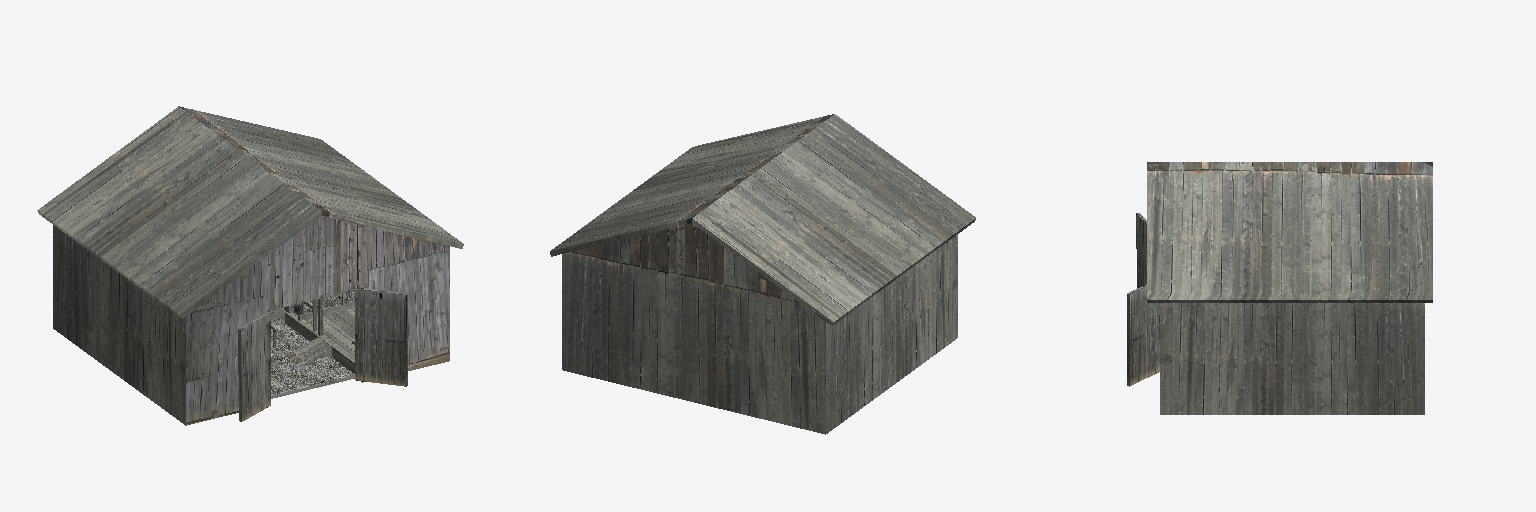
3 views of the same model, side by side, from view 1: azimuth 30°, elevation 25°; view 2: azimuth 150°, elevation 25°; view 3: azimuth 270°, elevation 25° (orthographic).
Parts seen in each view (by area): view 1: barn, inner_barn, door2, door1; view 2: barn; view 3: barn, door2, door1.
Part boxes in pixels (left/top/right/bottom): barn: left=37, top=106, right=463, bottom=425; inner_barn: left=268, top=290, right=354, bottom=398; door2: left=355, top=288, right=407, bottom=386; door1: left=238, top=312, right=270, bottom=421; barn: left=550, top=114, right=975, bottom=434; barn: left=1147, top=162, right=1432, bottom=414; door2: left=1127, top=284, right=1159, bottom=386; door1: left=1136, top=213, right=1146, bottom=288.
Bounding box in the file's own units: 25.24 × 15.93 × 23.52.
Materials: 3 (2 with a texture image).